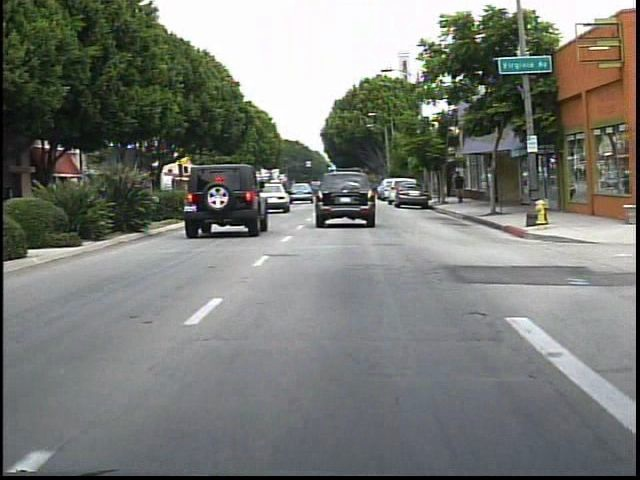person: (449, 169, 469, 208)
